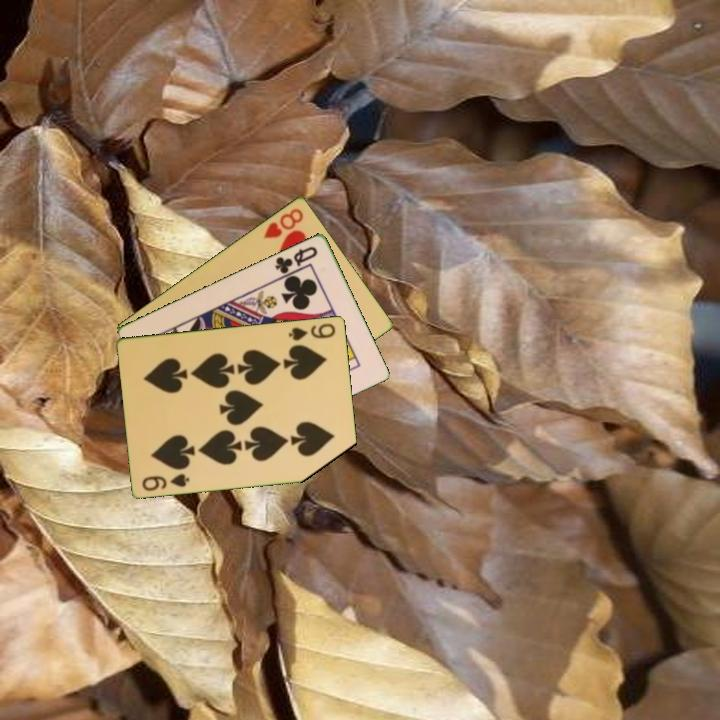8h: (260, 204, 306, 241)
9s: (139, 470, 193, 494), (285, 320, 338, 343)
Qc: (271, 242, 321, 276)
